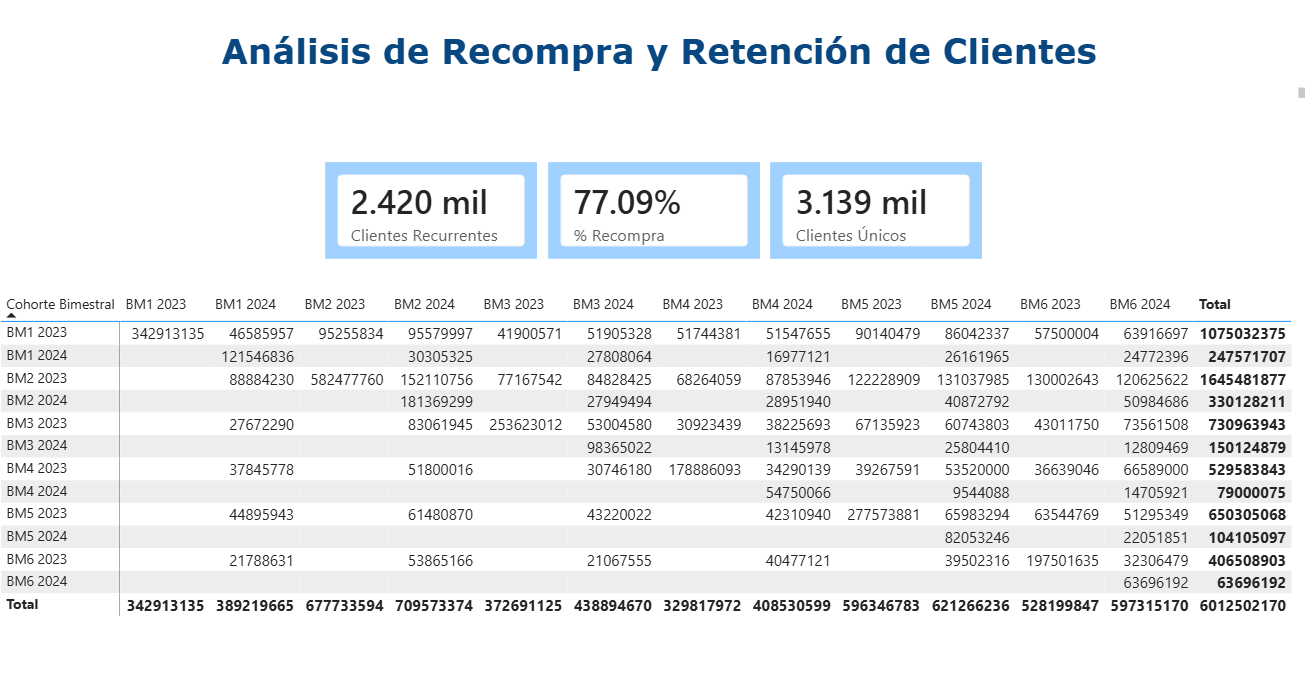

The page's visual inventory and layout, read from the dashboard file:
{"tool":"powerbi","page":{"name":"Recompra","canvas":[1280,720],"ordinal":3},"visuals":[{"type":"textbox","title":"Análisis de Recompra y Retención de Clientes","box":[9.6,34,1270.4,72.3],"z":0},{"type":"cardVisual","fields":{"Data":["hecho_ventas_propiedades.Clientes Recurrentes"]},"box":[314.7,158.4,216.9,104.2],"z":1000},{"type":"cardVisual","fields":{"Data":["hecho_ventas_propiedades.% Recompra"]},"box":[531.6,158.4,216.9,104.2],"z":2000},{"type":"cardVisual","fields":{"Data":["hecho_ventas_propiedades.Clientes Únicos"]},"box":[748.4,158.4,216.9,104.2],"z":3000},{"type":"pivotTable","fields":{"Values":["DIM_fecha.Ingreso Total"],"Rows":["hecho_ventas_propiedades.Cohorte Bimestral"],"Columns":["hecho_ventas_propiedades.Venta Bimestral"]},"box":[0,286,1280,342.3],"z":4000}]}

Visuals, with their boxes on the page's 1280x720 design canvas (x1, y1, x2, y2). These are canvas units, not pixel positions in the 1305x684 screenshot, which may show the page scaled, cropped or inside an application window:
"Análisis de Recompra y Retención de Clientes" textbox: (10,34,1280,106)
cardVisual - hecho_ventas_propiedades.Clientes Recurrentes: (315,158,532,263)
cardVisual - hecho_ventas_propiedades.% Recompra: (532,158,748,263)
cardVisual - hecho_ventas_propiedades.Clientes Únicos: (748,158,965,263)
pivotTable - DIM_fecha.Ingreso Total x hecho_ventas_propiedades.Cohorte Bimestral: (0,286,1280,628)
